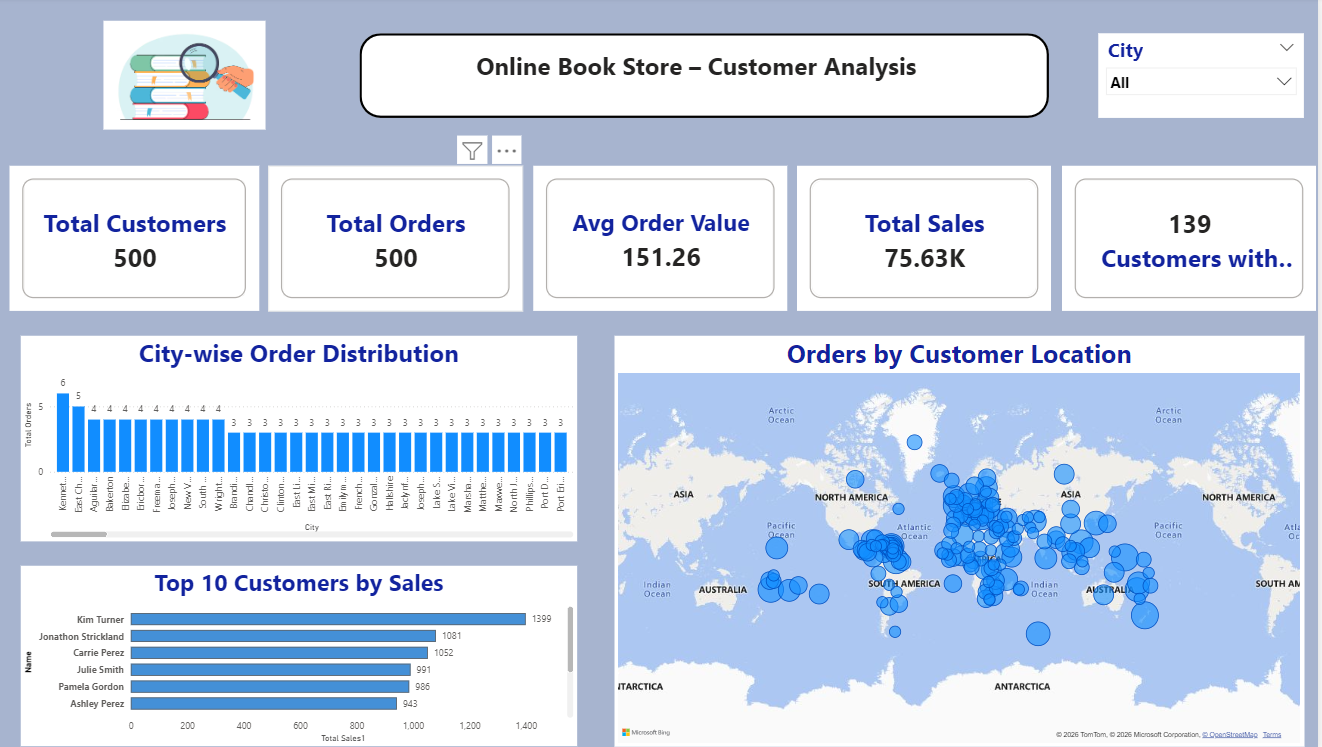

Layout of this report page (visuals, bound fields, positions):
{"tool":"powerbi","page":{"name":"Customer Analysis","canvas":[1750,1000],"ordinal":2},"visuals":[{"type":"shape","box":[480,48,912,112],"z":0},{"type":"cardVisual","title":"Total Customers","fields":{"Data":["online_bookstore customers.Total Customers"]},"box":[16,224,330,192],"z":1000},{"type":"cardVisual","title":"Total Orders","fields":{"Data":["online_bookstore orders.Total Orders"]},"box":[359.5,224,336,192],"z":2000},{"type":"cardVisual","fields":{"Data":["online_bookstore orders.Total Sales1"]},"box":[1058.5,224,336,192],"z":3000},{"type":"textbox","box":[512,64,816,80],"z":4000},{"type":"clusteredBarChart","title":"Top 10 Customers by Sales","fields":{"Category":["online_bookstore customers.Name"],"Y":["online_bookstore orders.Total Sales1"]},"box":[32,752,736,240],"z":5000},{"type":"clusteredColumnChart","title":"City-wise Order Distribution","fields":{"Category":["online_bookstore customers.City"],"Y":["online_bookstore orders.Total Orders"]},"box":[32,448,736,272],"z":6000},{"type":"cardVisual","fields":{"Data":["online_bookstore orders.Avg Order Value1"]},"box":[709,224,336,192],"z":7000},{"type":"cardVisual","fields":{"Data":["online_bookstore orders.Repeat Customers"]},"box":[1408,224,336,192],"z":8000},{"type":"image","box":[0,32,496,144],"z":9000},{"type":"map","title":"Orders by Customer Location","fields":{"Category":["online_bookstore customers.Country","online_bookstore customers.City"],"Size":["online_bookstore orders.Total Orders"]},"box":[816,448,912,544],"z":10000},{"type":"slicer","fields":{"Values":["online_bookstore customers.City"]},"box":[1456,48,272,112],"z":11000}]}

Visuals, with their boxes in screenshot pixels (x1, y1, x2, y2), scaled from the page's 1750x1000 canvas onto the 1322x747 screenshot:
shape: 363, 36, 1052, 120
"Total Customers" cardVisual: 12, 167, 261, 311
"Total Orders" cardVisual: 272, 167, 525, 311
cardVisual - online_bookstore orders.Total Sales1: 800, 167, 1053, 311
textbox: 387, 48, 1003, 108
"Top 10 Customers by Sales" clusteredBarChart: 24, 562, 580, 741
"City-wise Order Distribution" clusteredColumnChart: 24, 335, 580, 538
cardVisual - online_bookstore orders.Avg Order Value1: 536, 167, 789, 311
cardVisual - online_bookstore orders.Repeat Customers: 1064, 167, 1317, 311
image: 0, 24, 375, 131
"Orders by Customer Location" map: 616, 335, 1305, 741
slicer - online_bookstore customers.City: 1100, 36, 1305, 120
